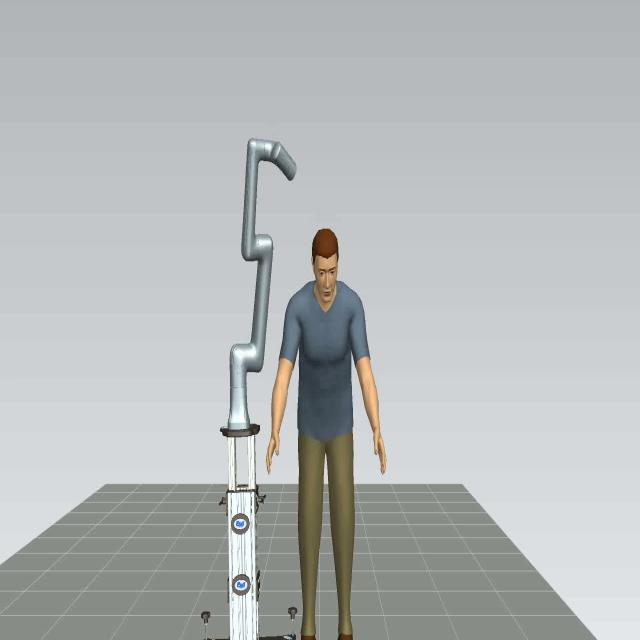human: (265, 227, 387, 638)
robot: (200, 136, 298, 638)
